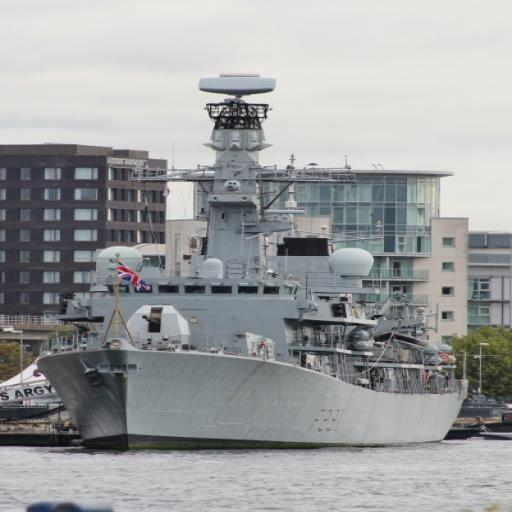Fragata: (42, 65, 469, 458)
